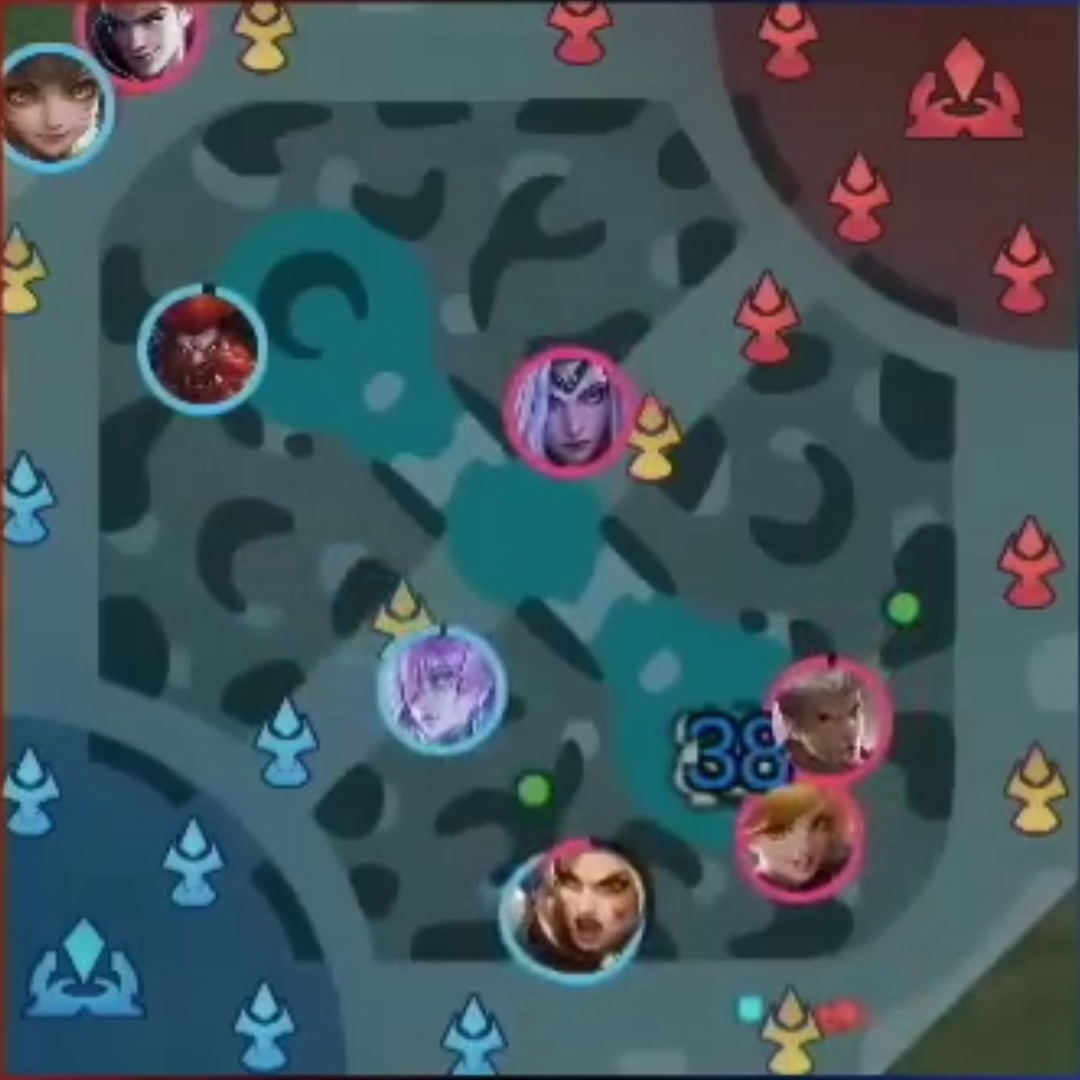Chou: (790, 672, 875, 765)
Claude: (104, 1, 183, 75)
Fanny: (761, 800, 839, 886)
Masha: (558, 856, 633, 945)
Minotaur: (159, 303, 241, 394)
Novaria: (399, 649, 486, 735)
Valentina: (527, 364, 615, 457)
Wanwan: (13, 60, 99, 154)
